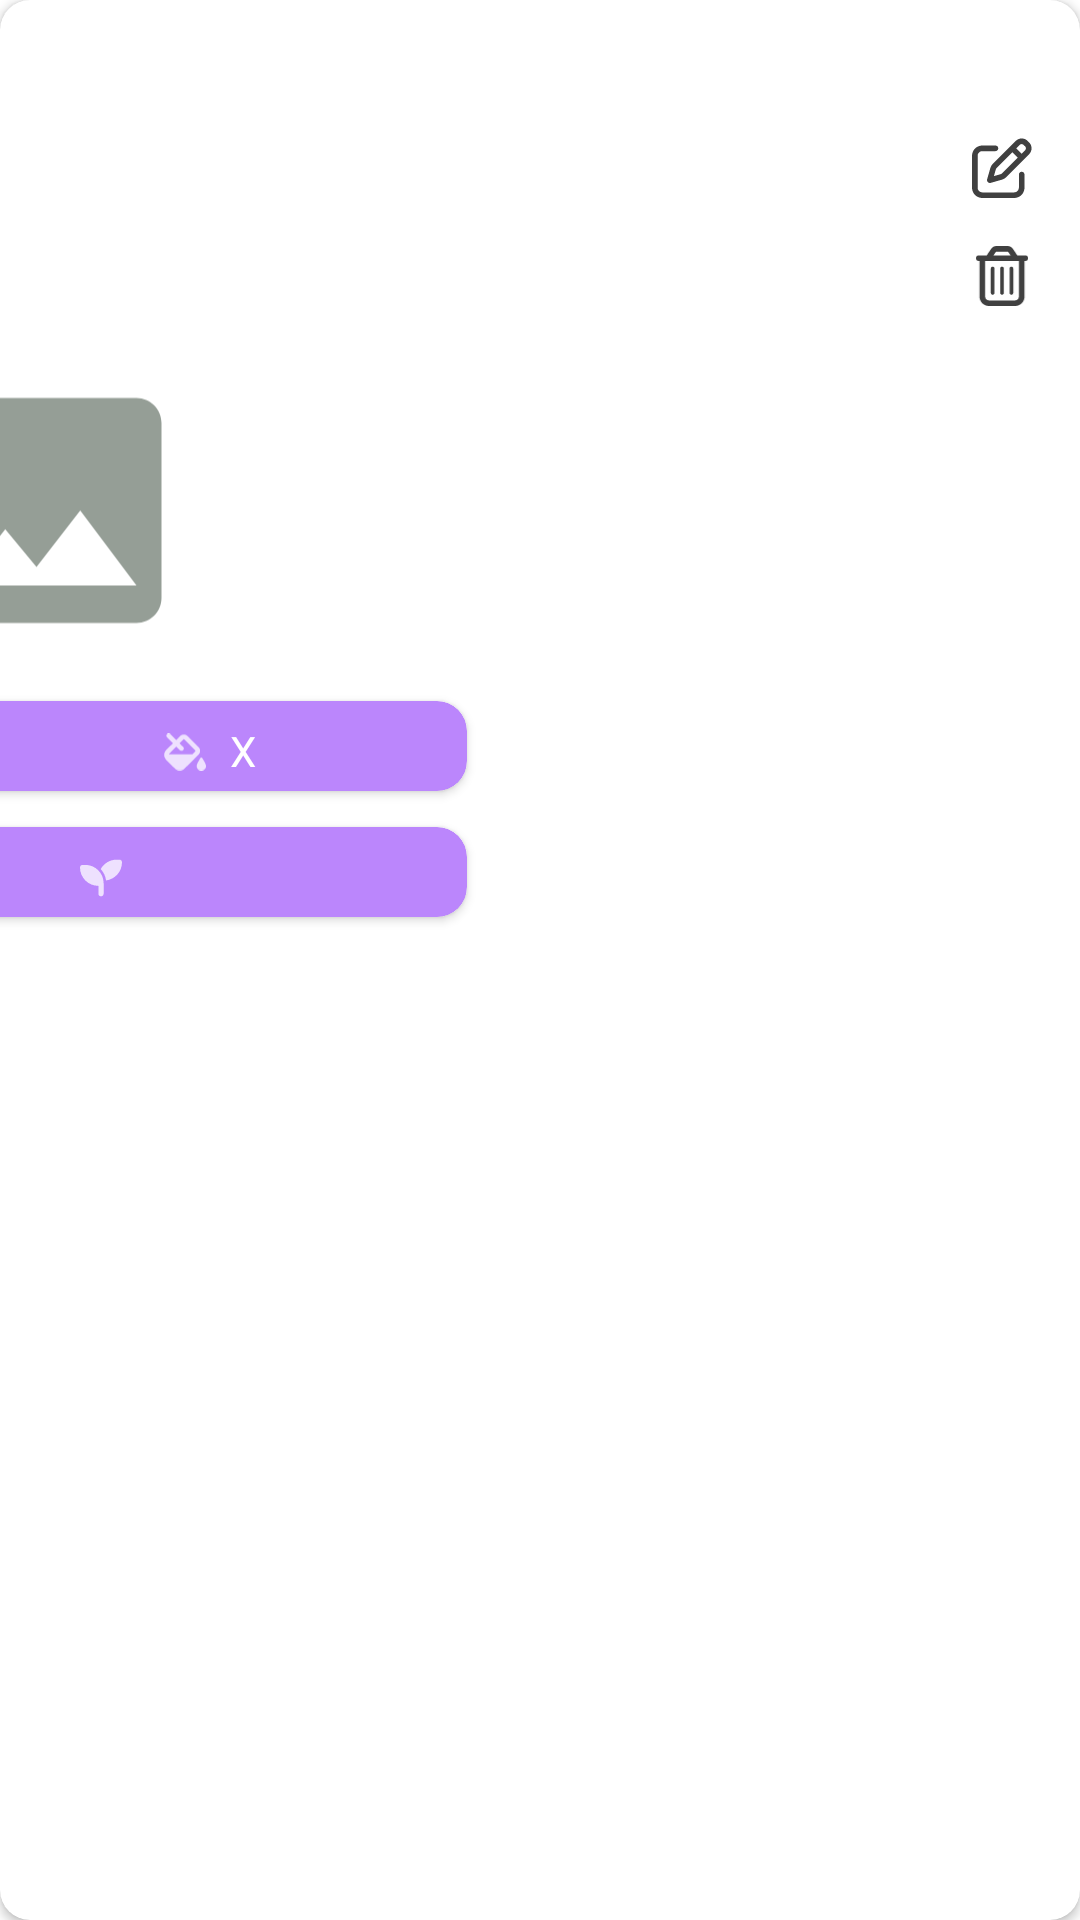

Icons on this 1080px x 1920px Android screen, each with the point to tap as (x=x, y=y):
drip: (x=185, y=752)
pen to edit: (x=1002, y=168)
plant start day: (x=101, y=878)
trash can: (x=1002, y=276)
